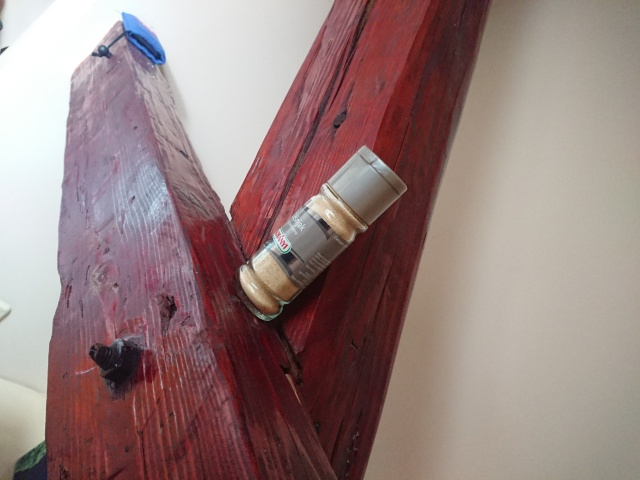Kotanyi Garlic Granules 70g: (230, 142, 410, 324)
